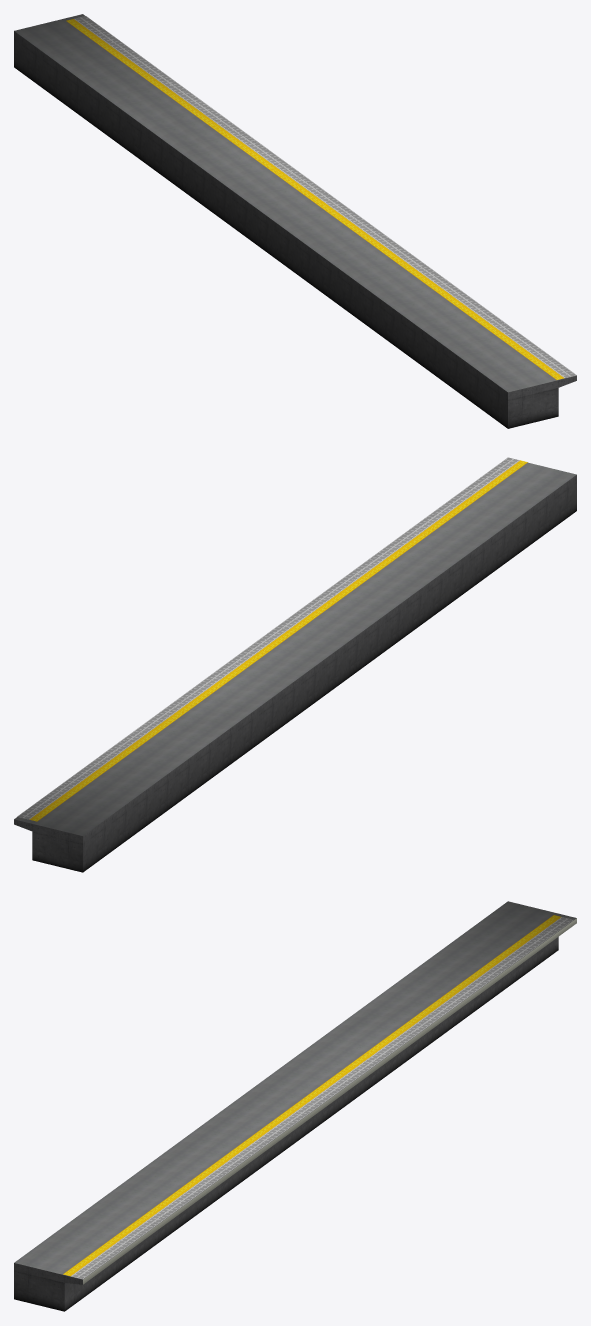
File: HOME_8_R.glb
The picture shows the model from 3 angles, top to bottom: view 1: azimuth 30°, elevation 25°; view 2: azimuth 150°, elevation 25°; view 3: azimuth 330°, elevation 25°; orthographic projection.
Visible parts, largest first — view 1: Home8_R, y_Block3; view 2: Home8_R, y_Block3; view 3: Home8_R, y_Block3.
Boxes of the visible parts, <box> form: Home8_R: <box>14,14,576,428</box>; y_Block3: <box>66,16,576,379</box>; Home8_R: <box>14,462,576,872</box>; y_Block3: <box>17,457,527,821</box>; Home8_R: <box>14,901,576,1311</box>; y_Block3: <box>63,915,573,1279</box>.
Size of the model in its own units: 8.06 by 4.12 by 100.
4 materials, 4 textured.
